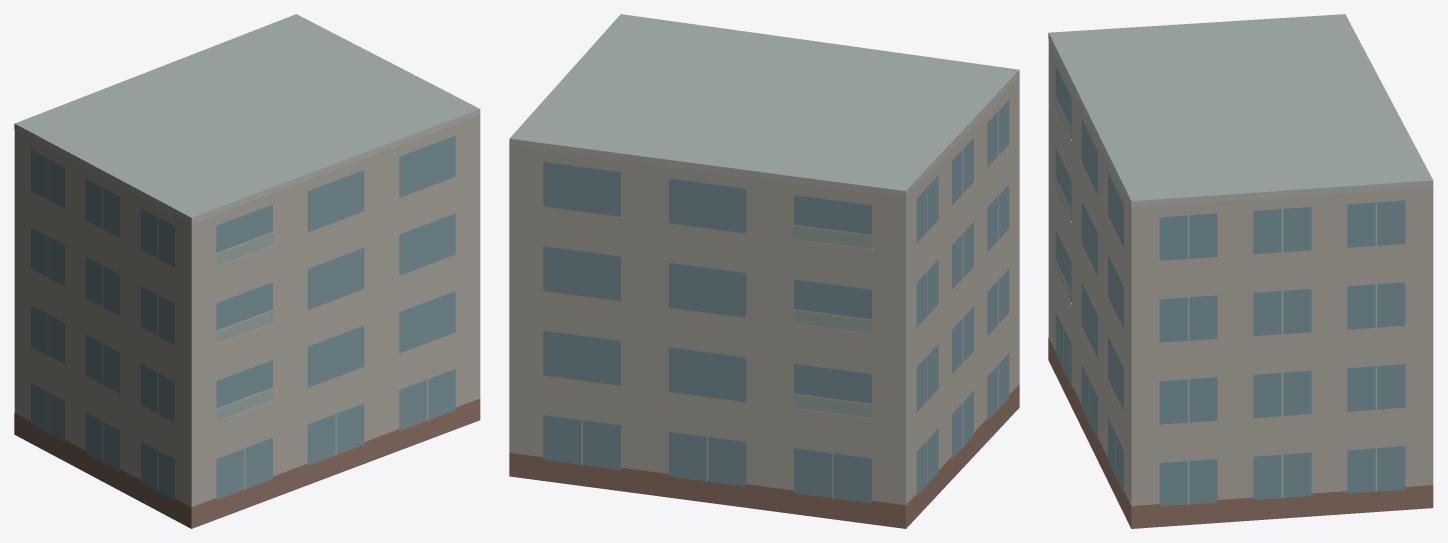
Rendered from survey-upis-32495444.glb.
3 renders of one model, left to right at view 1: azimuth 30°, elevation 25°; view 2: azimuth 150°, elevation 25°; view 3: azimuth 270°, elevation 25°, orthographic. The views are drawn at different scales.
Visible parts, largest first — view 1: survey-upis-32495444.tmp; view 2: survey-upis-32495444.tmp; view 3: survey-upis-32495444.tmp.
Boxes of the visible parts, <box> form: survey-upis-32495444.tmp: <box>14,14,480,528</box>; survey-upis-32495444.tmp: <box>509,14,1019,528</box>; survey-upis-32495444.tmp: <box>1048,14,1433,528</box>.
Size of the model in its own units: 14.96 by 12.2 by 12.99.
